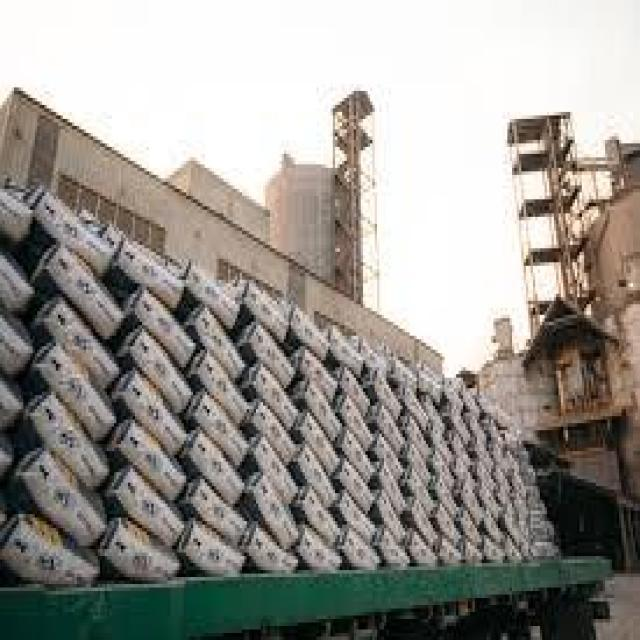gunny_bag: (23, 383, 116, 498), (12, 439, 107, 551), (32, 335, 122, 447), (39, 238, 127, 343), (34, 289, 121, 392), (33, 187, 127, 272), (114, 359, 193, 460), (0, 505, 98, 586), (109, 413, 192, 507), (122, 320, 198, 418), (110, 459, 190, 550), (124, 282, 199, 371), (109, 231, 189, 311), (98, 506, 181, 582), (183, 470, 253, 549), (185, 387, 249, 471), (182, 425, 246, 509), (189, 342, 250, 427), (183, 253, 242, 333), (188, 303, 247, 383), (248, 467, 300, 553), (239, 317, 299, 391), (177, 516, 247, 578), (245, 359, 301, 435), (241, 275, 295, 347), (247, 395, 299, 469), (248, 430, 298, 506), (298, 380, 344, 446), (243, 521, 298, 574), (297, 342, 339, 407), (295, 444, 339, 506), (288, 300, 330, 364), (301, 412, 341, 479), (303, 488, 343, 548), (298, 525, 342, 579), (0, 256, 37, 315), (341, 458, 376, 517), (341, 428, 376, 486), (376, 485, 408, 545), (339, 493, 376, 544), (374, 519, 413, 567), (341, 400, 374, 456), (372, 429, 406, 483), (0, 319, 31, 378), (372, 402, 405, 457), (408, 493, 439, 551), (344, 531, 383, 575), (373, 368, 405, 421), (338, 367, 373, 415), (398, 384, 431, 433), (404, 410, 432, 465), (334, 328, 363, 379), (457, 479, 484, 532), (432, 474, 458, 528), (405, 526, 440, 565), (404, 442, 433, 489), (380, 466, 407, 515), (361, 341, 391, 385), (406, 467, 434, 512), (479, 480, 504, 529), (430, 445, 457, 490), (433, 504, 461, 547), (452, 450, 478, 494), (448, 425, 472, 472), (449, 400, 472, 449), (418, 366, 444, 409), (429, 428, 453, 473), (457, 507, 482, 549), (424, 393, 448, 435), (392, 355, 418, 393), (472, 435, 494, 476), (476, 455, 497, 497), (482, 506, 504, 546), (437, 532, 463, 565), (444, 380, 466, 419), (468, 412, 488, 450), (463, 384, 482, 424), (460, 534, 487, 562), (482, 531, 507, 561), (505, 533, 525, 561)
